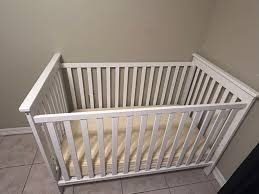crib: (19, 54, 257, 185)
